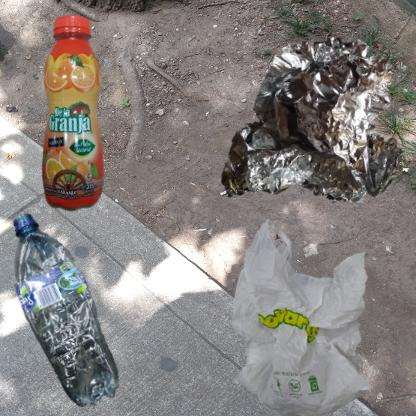aluminio: (213, 10, 416, 265)
bolsa: (213, 213, 407, 416)
botella: (10, 10, 160, 249), (10, 213, 123, 409)
